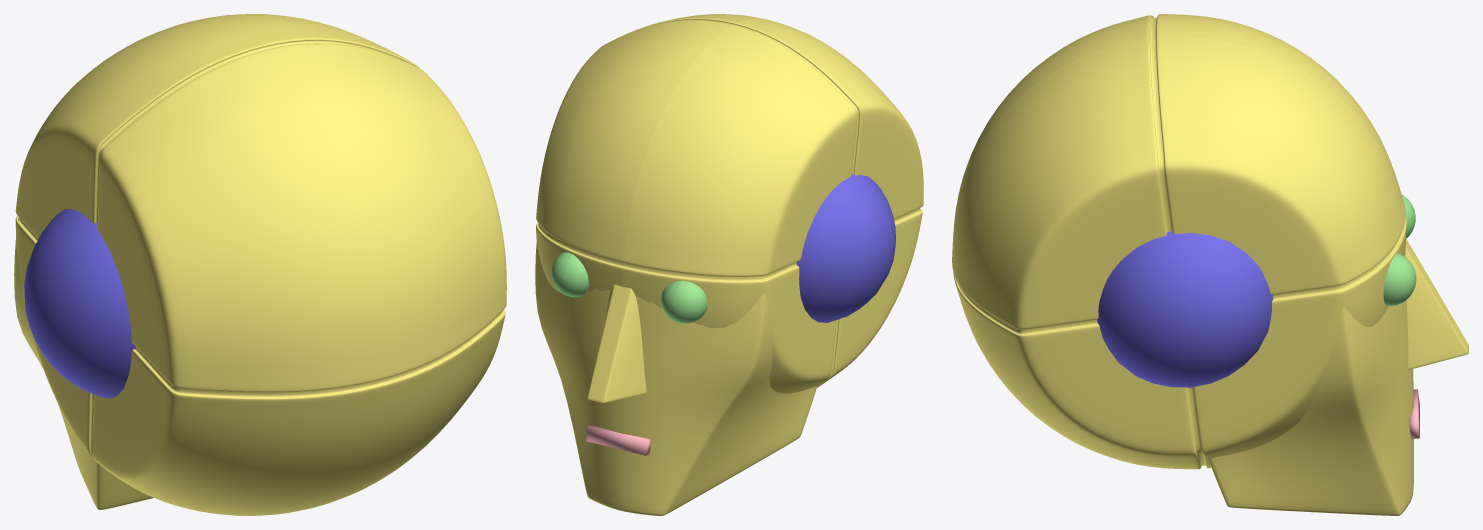
The model's file is FinalEditRoboHead.glb.
The picture shows the model from 3 angles, left to right: view 1: azimuth 30°, elevation 25°; view 2: azimuth 150°, elevation 25°; view 3: azimuth 270°, elevation 25°; orthographic projection. The views are drawn at different scales.
Parts seen in each view (by area): view 1: Object_16_Mesh_4, Object_13_Mesh_3; view 2: Object_16_Mesh_4, Object_13_Mesh_3, Object_7_Mesh_1, Object_4_Mesh_0, Box001; view 3: Object_16_Mesh_4, Object_10_Mesh_2, Object_4_Mesh_0.
Part boxes in pixels (x1,y1,x2,y2): Object_16_Mesh_4: (14, 14, 506, 515); Object_13_Mesh_3: (24, 209, 136, 398); Object_16_Mesh_4: (535, 14, 923, 515); Object_13_Mesh_3: (796, 173, 895, 322); Object_7_Mesh_1: (661, 281, 707, 323); Object_4_Mesh_0: (551, 252, 588, 297); Box001: (586, 424, 650, 455); Object_16_Mesh_4: (952, 14, 1468, 515); Object_10_Mesh_2: (1097, 231, 1273, 387); Object_4_Mesh_0: (1383, 253, 1416, 306).
Size of the model in its own units: 56.37 by 65.97 by 67.13.
